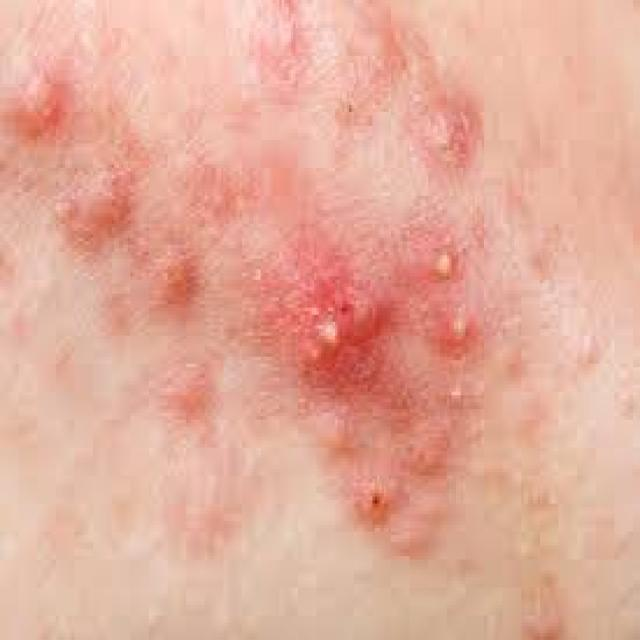Acne: (266, 222, 396, 395), (379, 372, 480, 474), (48, 153, 134, 254), (405, 88, 489, 179), (7, 50, 75, 146), (144, 230, 204, 312), (424, 292, 486, 370), (402, 222, 465, 292), (347, 468, 404, 532)
